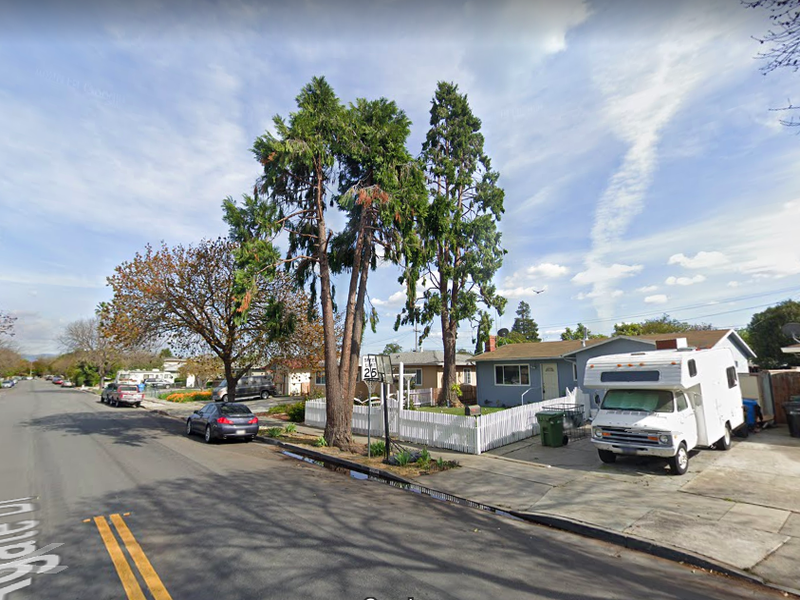tree: (222, 75, 413, 457), (95, 234, 341, 407), (388, 79, 511, 410)
